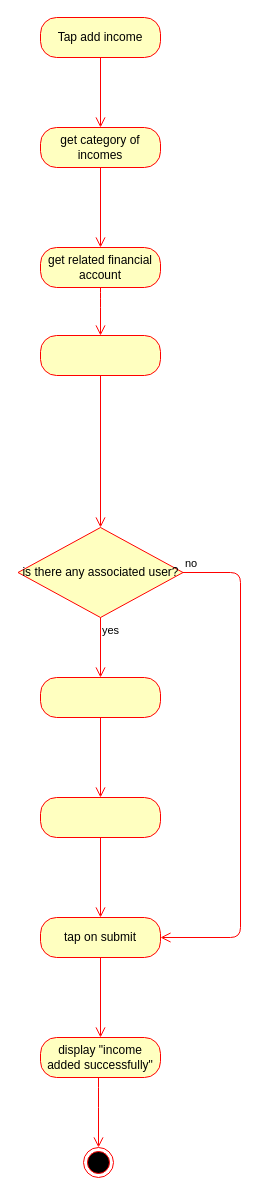
Image size: 268x1195. Some labels were removed from this diagram. The shapes that lost their labels are listed below. From the top down, each one's box as (x1, y1, x2, y2) in pixels, then its label:
(40, 334, 160, 376): get income amount
(40, 676, 160, 718): get associated users list
(40, 796, 160, 838): get income association percent of users
